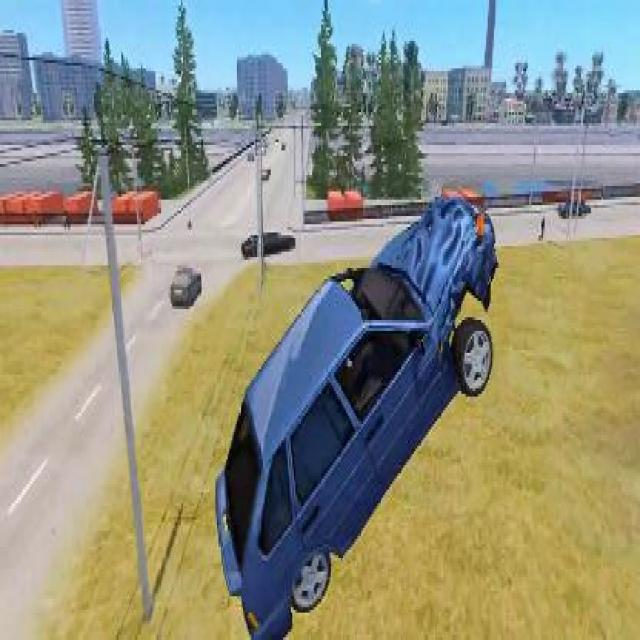accident: (209, 183, 503, 640)
